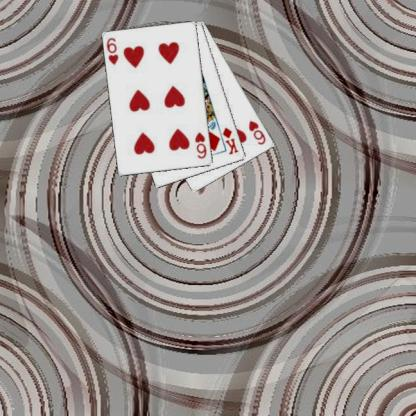6H: (246, 118, 267, 146), (104, 35, 119, 66), (193, 130, 208, 160)
KD: (219, 125, 240, 156)
